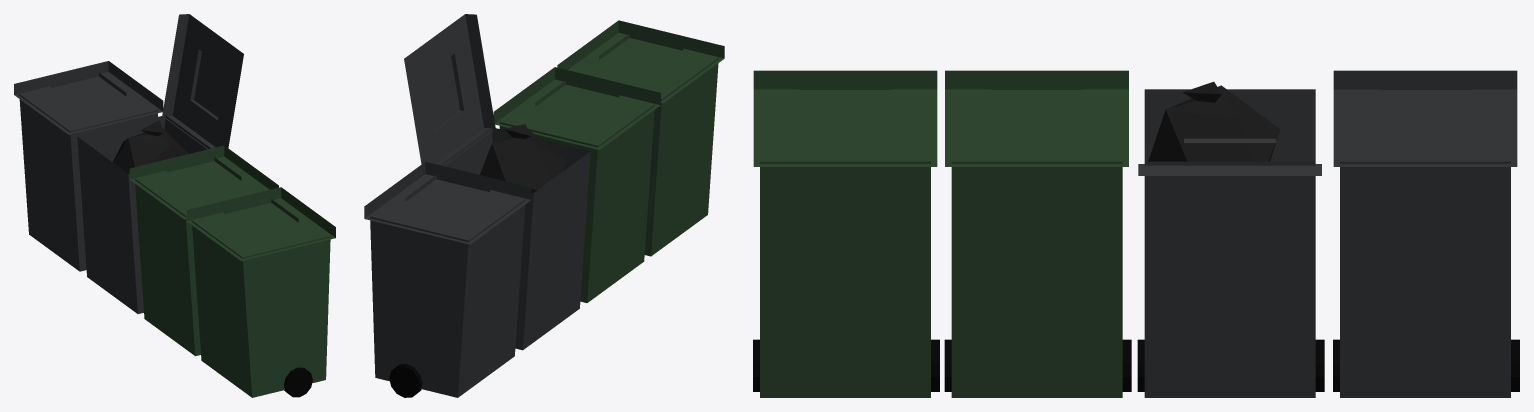
File: Bin2.dae
3 renders of one model, left to right at view 1: azimuth 30°, elevation 25°; view 2: azimuth 150°, elevation 25°; view 3: azimuth 270°, elevation 25°, orthographic. The views are drawn at different scales.
Parts seen in each view (by area): view 1: Bin2; view 2: Bin2; view 3: Bin2.
Part boxes in pixels (x1,y1,x2,y2): Bin2: (14, 14, 335, 397); Bin2: (364, 14, 724, 397); Bin2: (753, 70, 1519, 397).
Bounding box in the file's own units: 0.5607 × 1.89 × 1.13.
